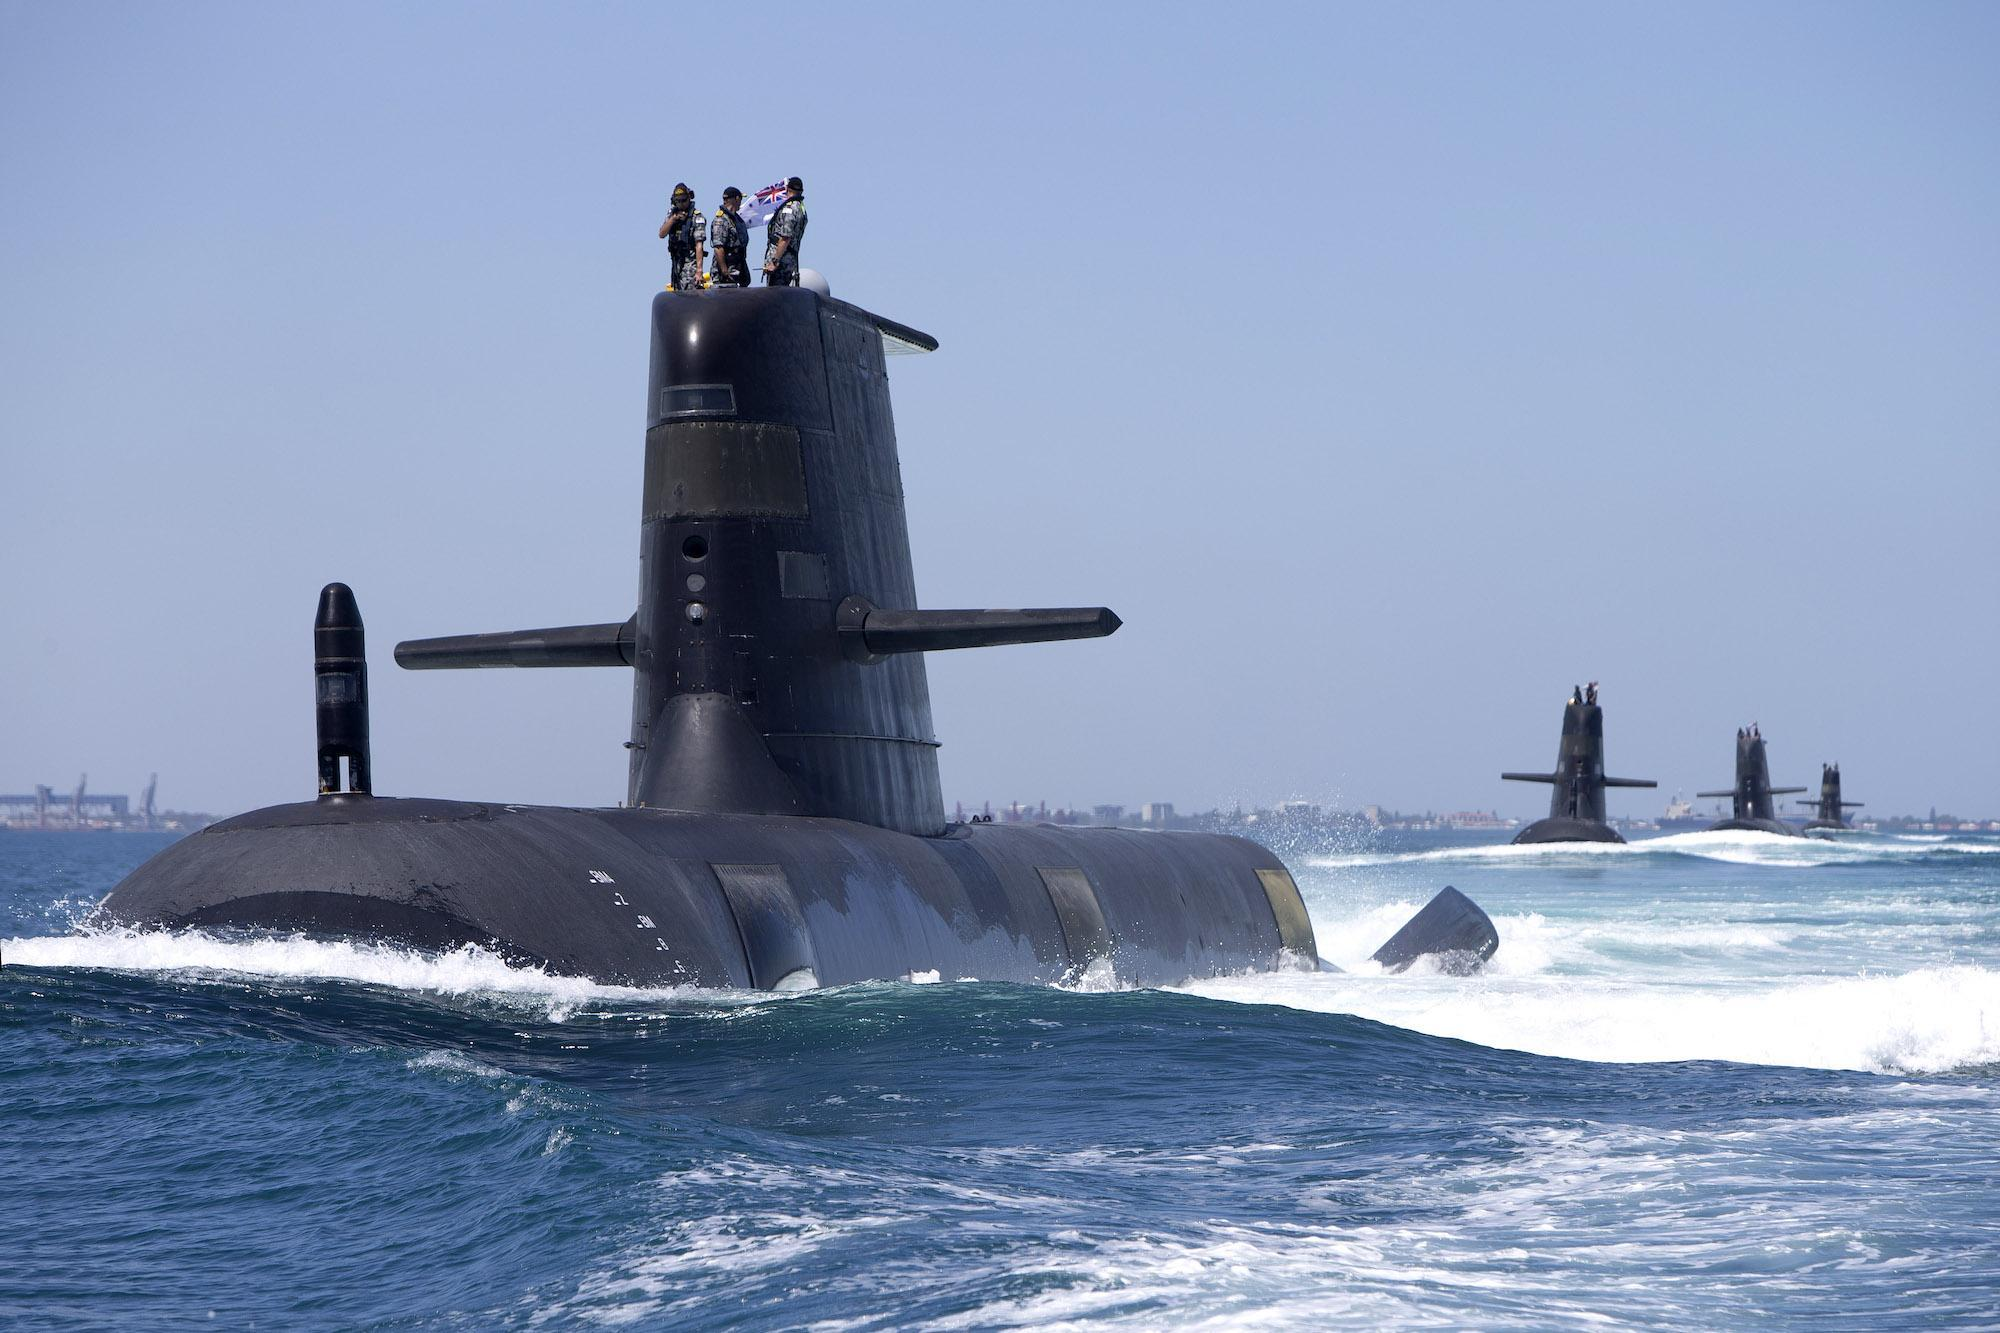Submarine: (37, 83, 1520, 1197)
